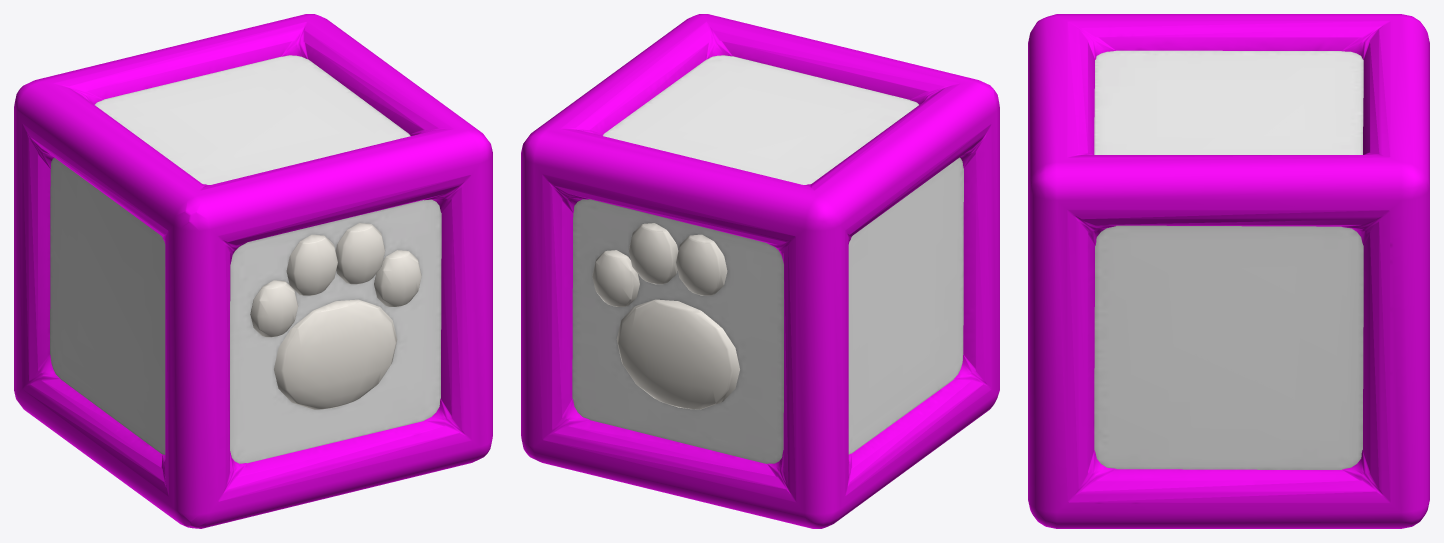
File: kup3.glb
3 views of the same model, side by side, from view 1: azimuth 30°, elevation 25°; view 2: azimuth 150°, elevation 25°; view 3: azimuth 270°, elevation 25° (orthographic). The views are drawn at different scales.
Visible parts, largest first — view 1: kup3; view 2: kup3; view 3: kup3.
Boxes of the visible parts, box(x1,y1,x2,y2) form: kup3: box(14, 14, 492, 528); kup3: box(521, 14, 999, 528); kup3: box(1028, 14, 1429, 528).
Size of the model in its own units: 1.55 by 1.55 by 1.55.
1 material, 1 textured.
